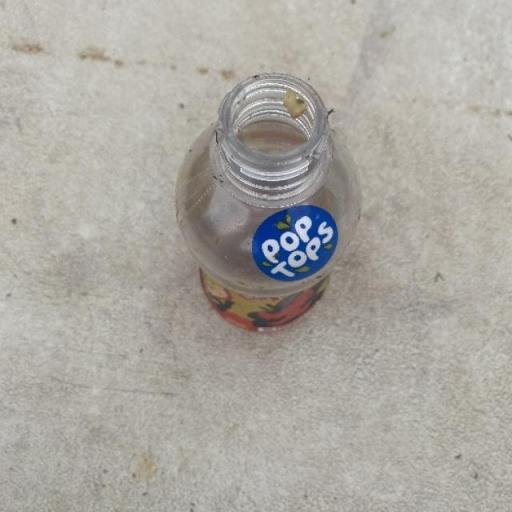plastic: (173, 70, 362, 333)
